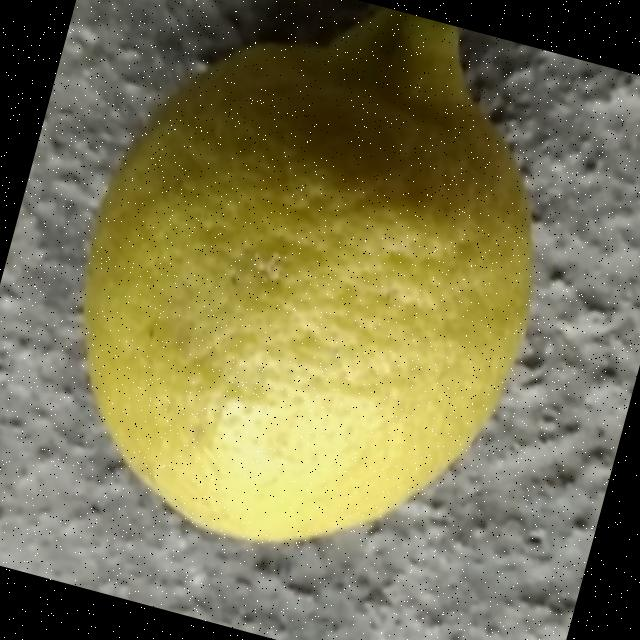Ripe: (20, 0, 607, 601)
